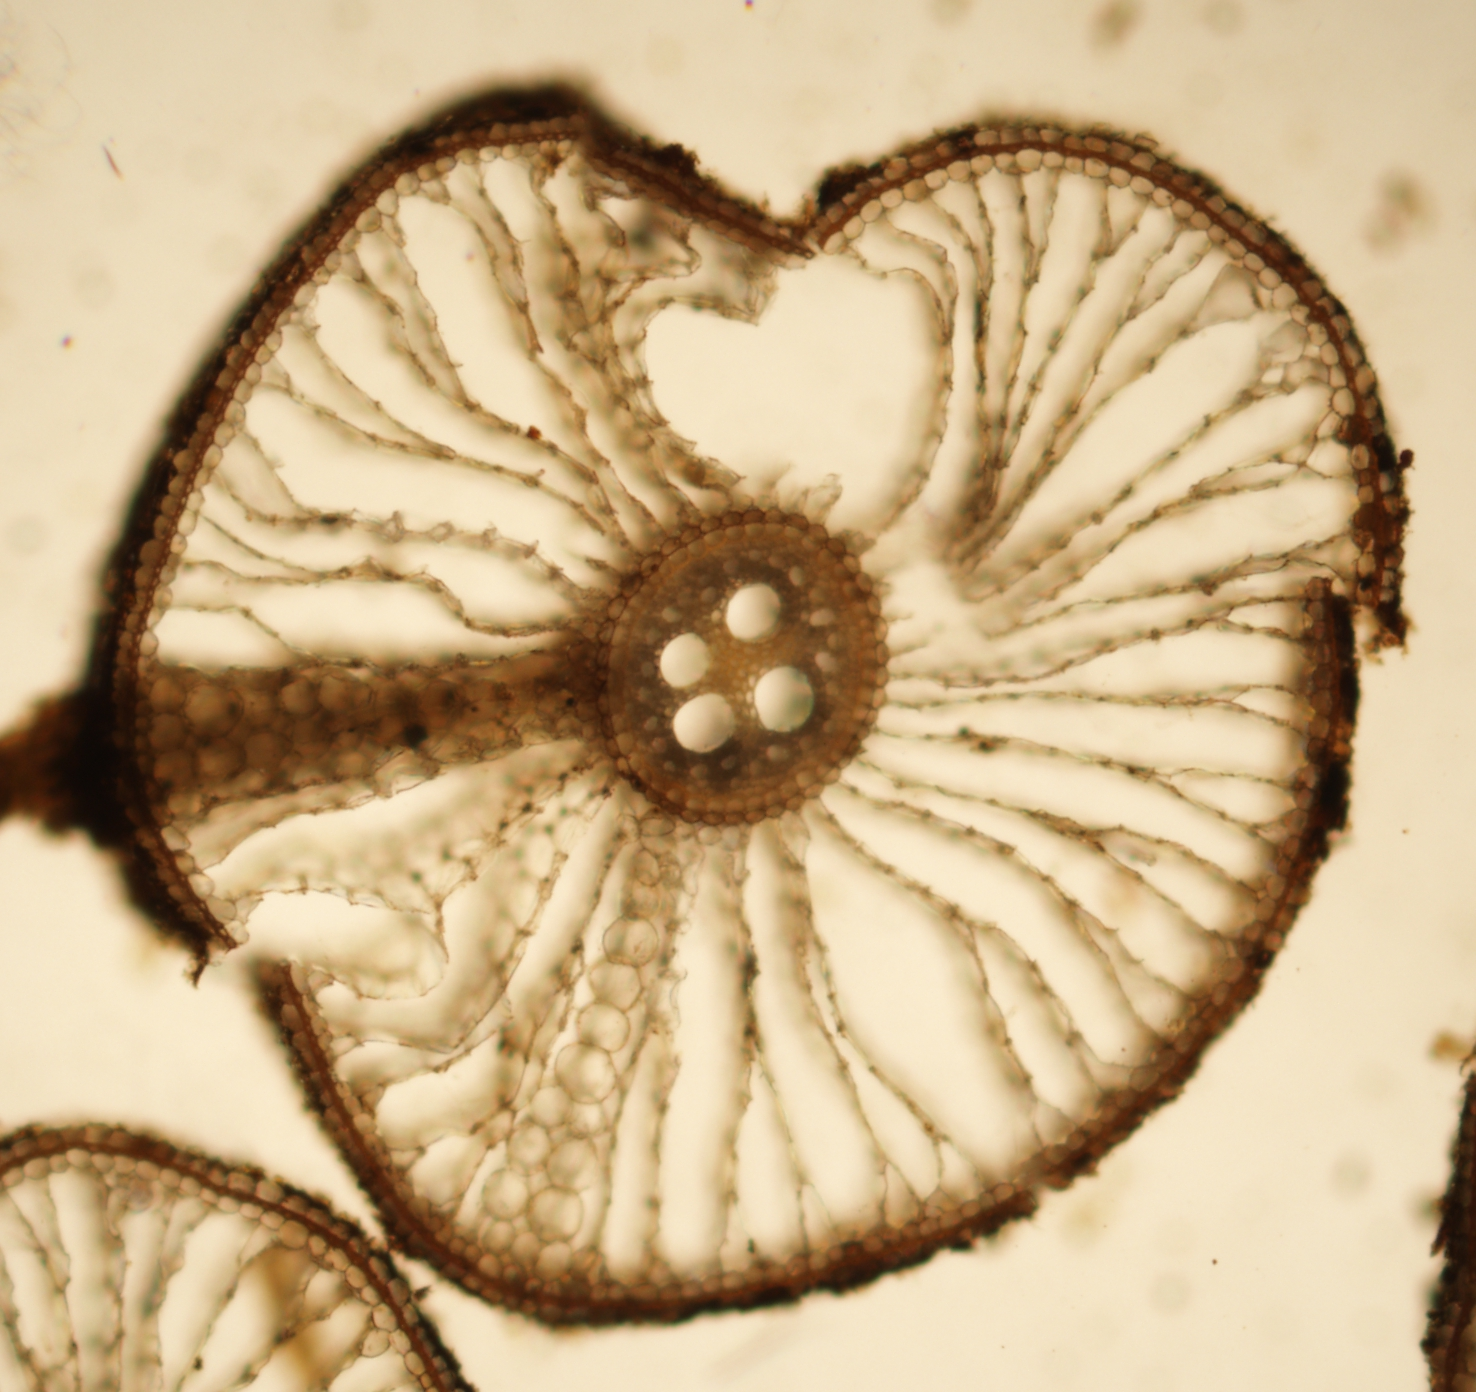lm: (754, 665, 814, 733), (673, 692, 735, 754), (725, 583, 784, 642), (659, 632, 712, 688)
